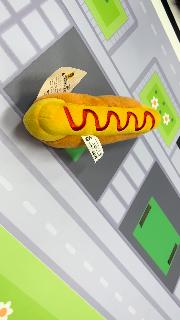hotdog: (22, 92, 162, 150)
